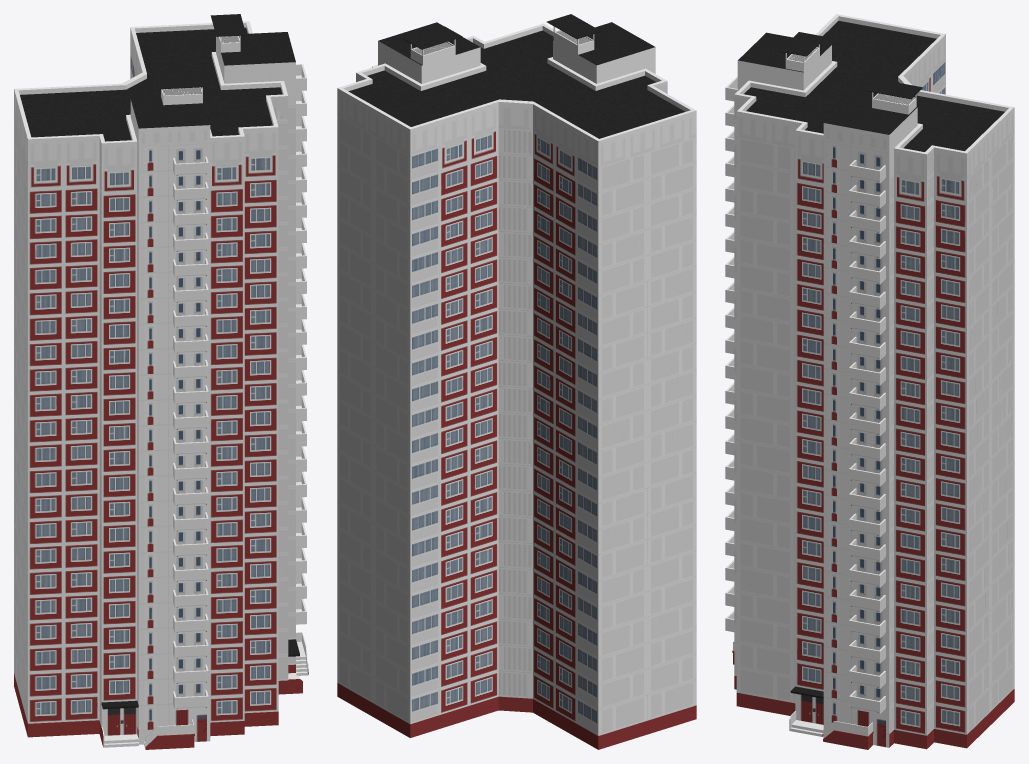
The model's file is panel_house_1.glb.
3 renders of one model, left to right at view 1: azimuth 30°, elevation 25°; view 2: azimuth 150°, elevation 25°; view 3: azimuth 270°, elevation 25°, orthographic. The views are drawn at different scales.
Visible parts, largest first — view 1: instance_0.021; view 2: instance_0.021; view 3: instance_0.021.
Part boxes in pixels (x1=…): instance_0.021: x1=14, y1=14, x2=308, y2=749; instance_0.021: x1=337, y1=14, x2=696, y2=749; instance_0.021: x1=725, y1=14, x2=1014, y2=749.
Bounding box in the file's own units: 16.32 × 33.31 × 13.82.
Materials: 1 (1 with a texture image).
